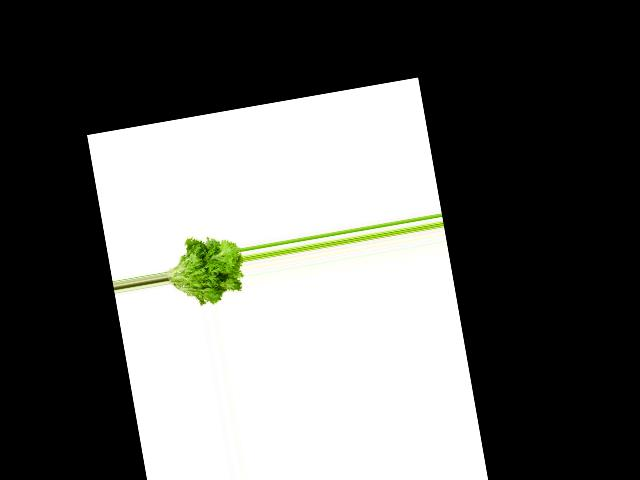lettuce: (160, 229, 249, 314)
